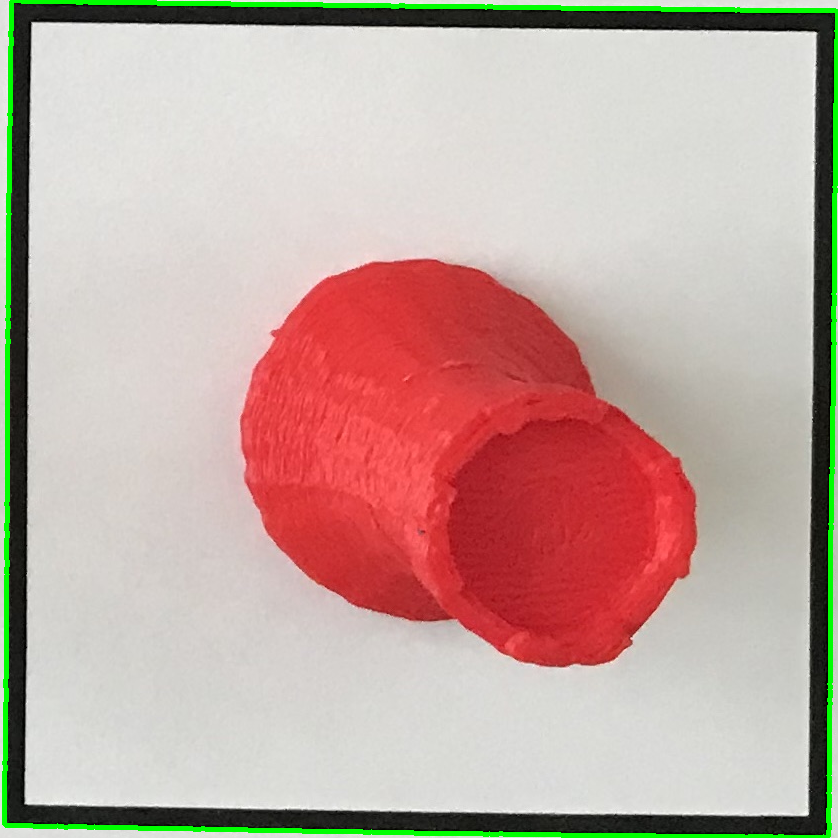Red Castle: (210, 237, 719, 722)
